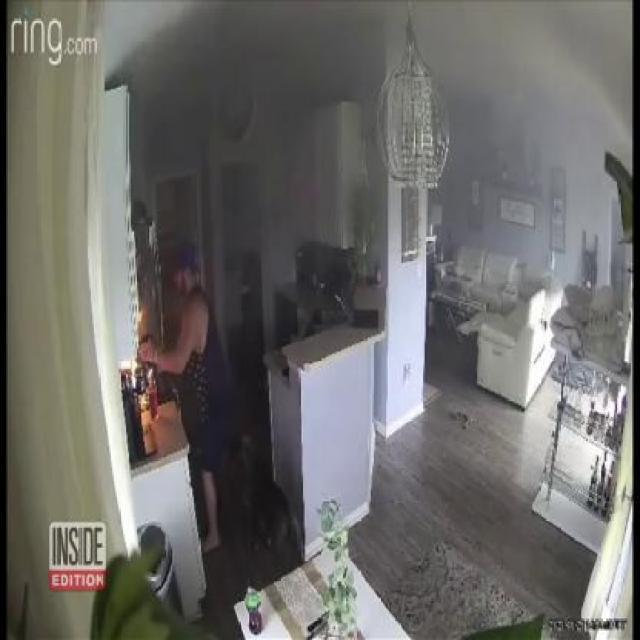smoke: (456, 6, 630, 146), (130, 8, 342, 88)
